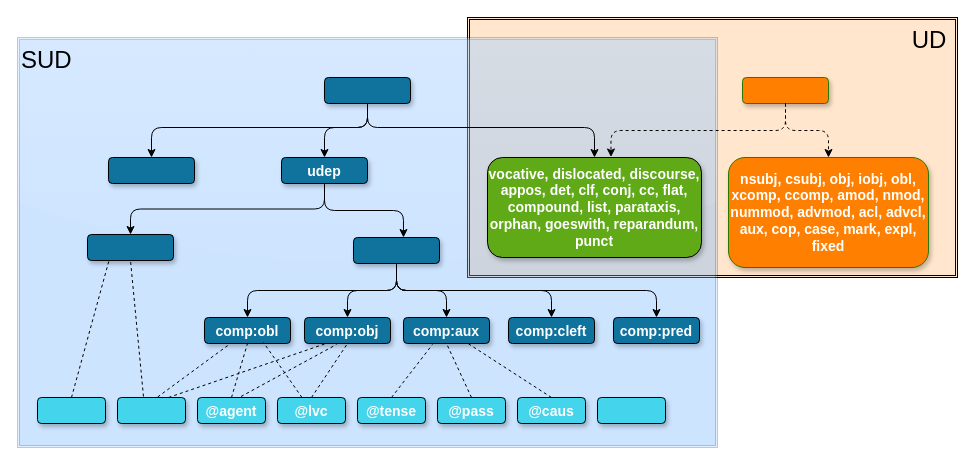
This 975x465 diagram has some shape labels left out. The centre of each missing label's shape, as x and y in pixels:
"@fixed" belongs at point (632, 411).
"@relcl" belongs at point (72, 411).
"@x" belongs at point (152, 411).
"comp" belongs at point (397, 251).
"dep" belongs at point (786, 91).
"mod" belongs at point (131, 249).
"subj" belongs at point (152, 171).
"unk" belongs at point (368, 91).
